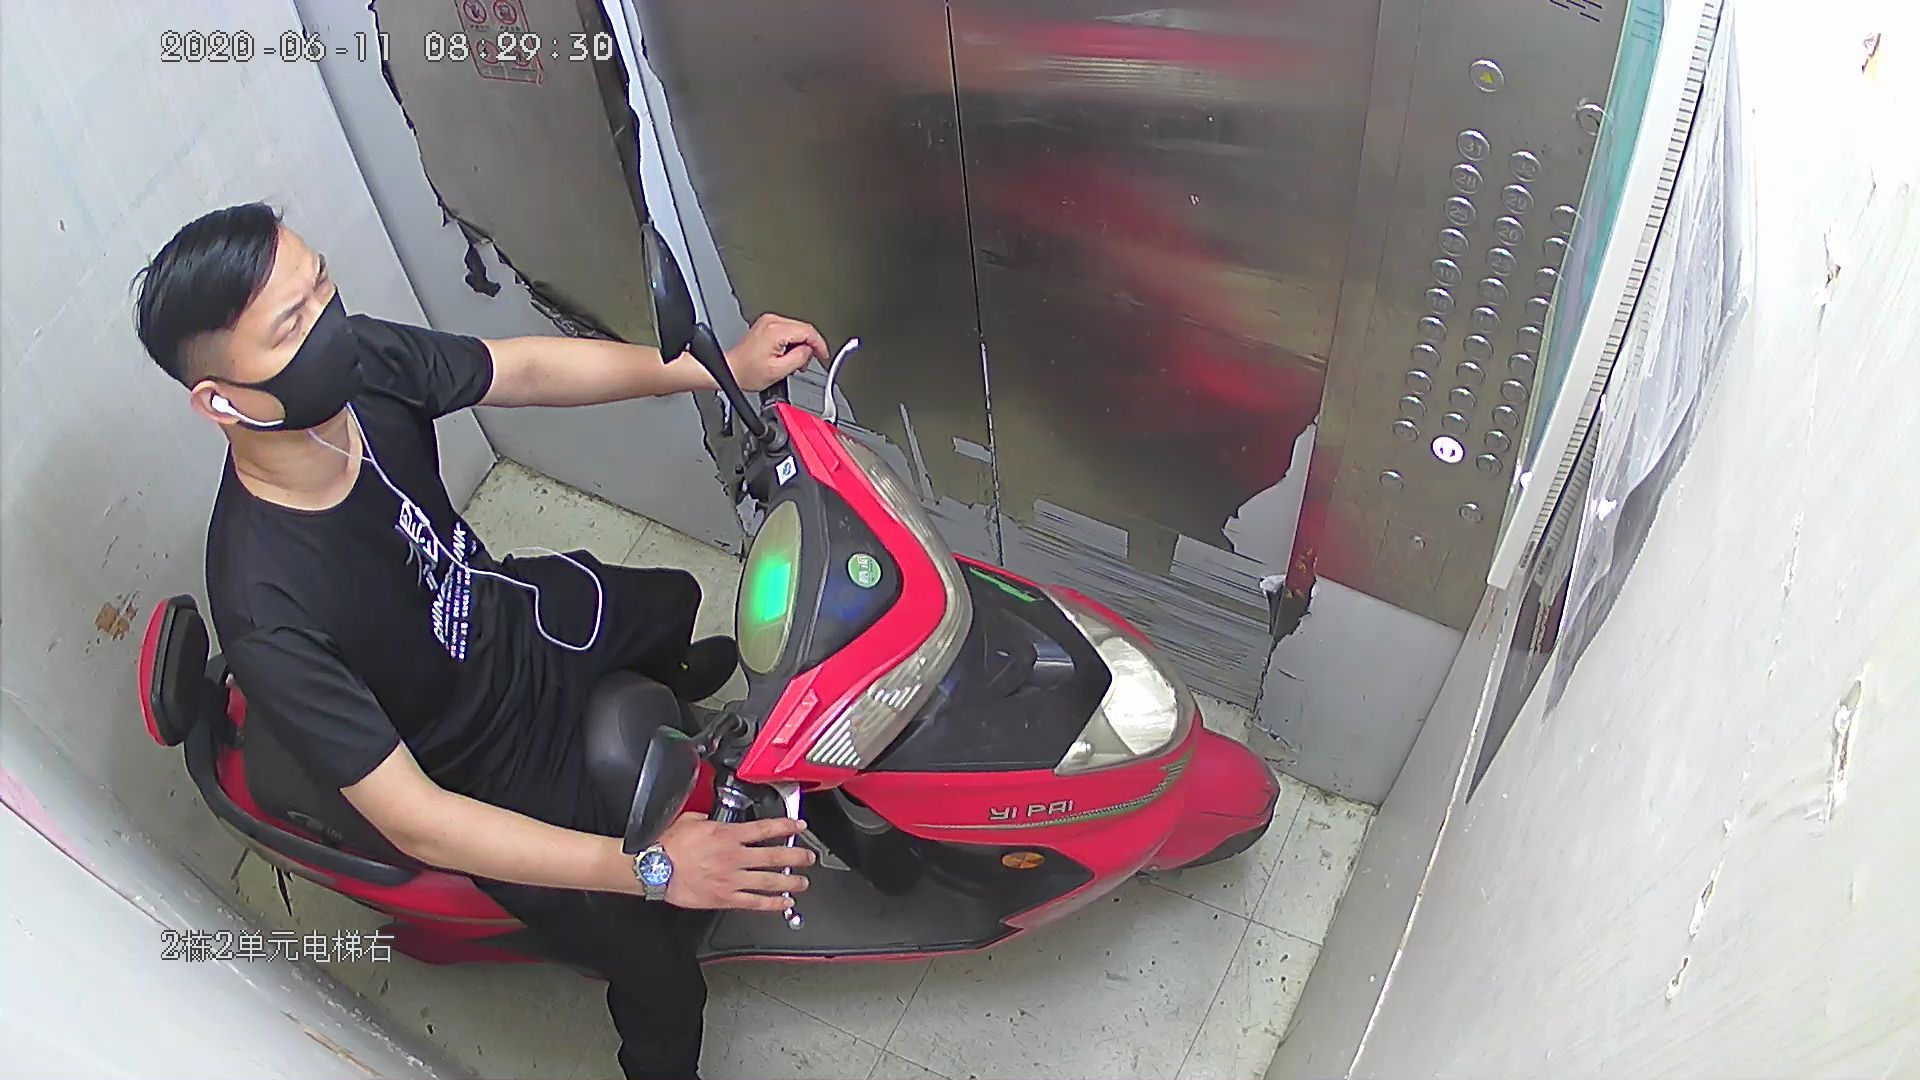Electric-bicycle: (146, 222, 1250, 982)
